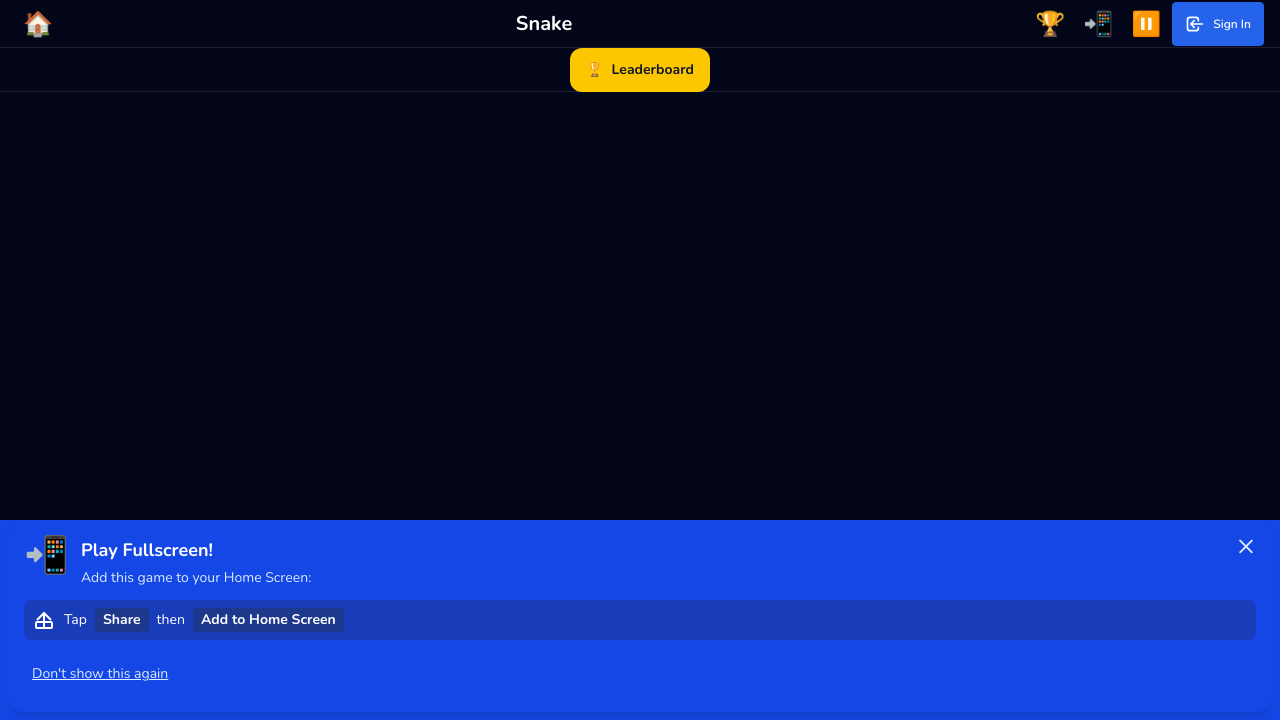
Test case: IOSInstallPrompt › requested by the kid (the 📲 button) › shows during play, above the pause menu, even after don't-show-again
What coordinates should you click on to do the following:
click the button named "Close"
I would click on:
 (1246, 546)
Its box is [1224,524,1268,568].
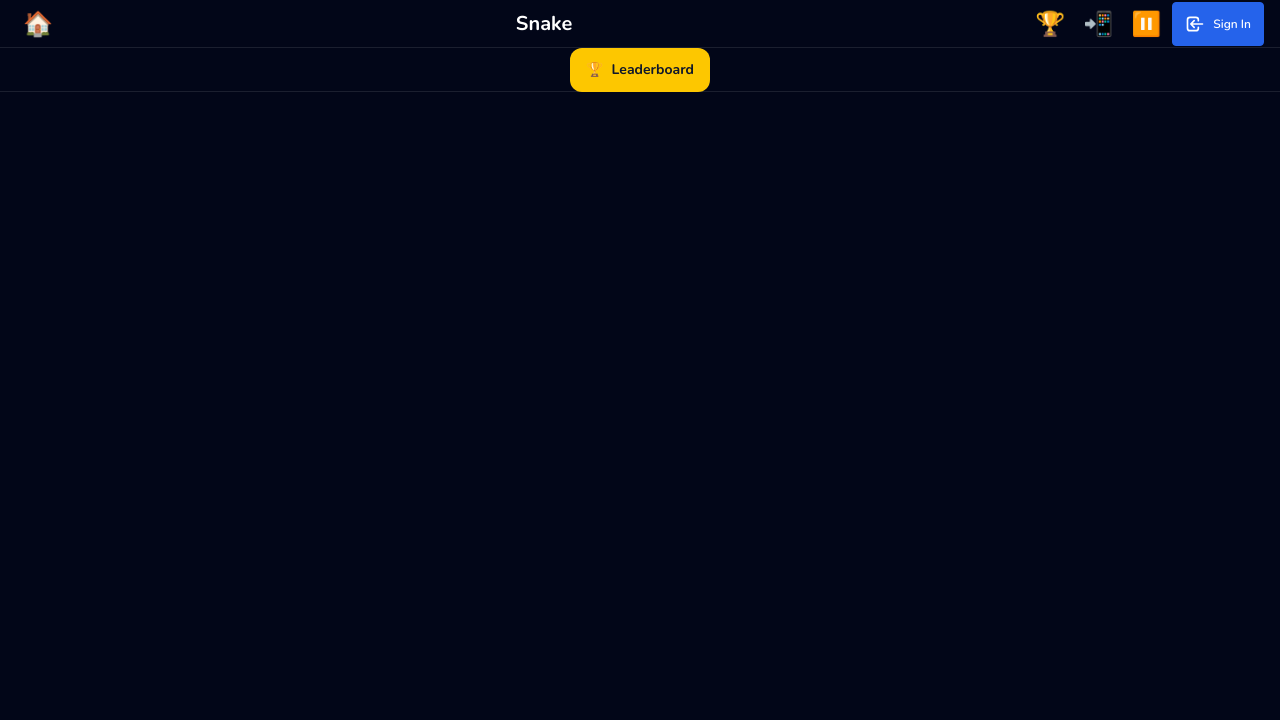
Expected: the element with test id "ios-install-sheet" is gone
